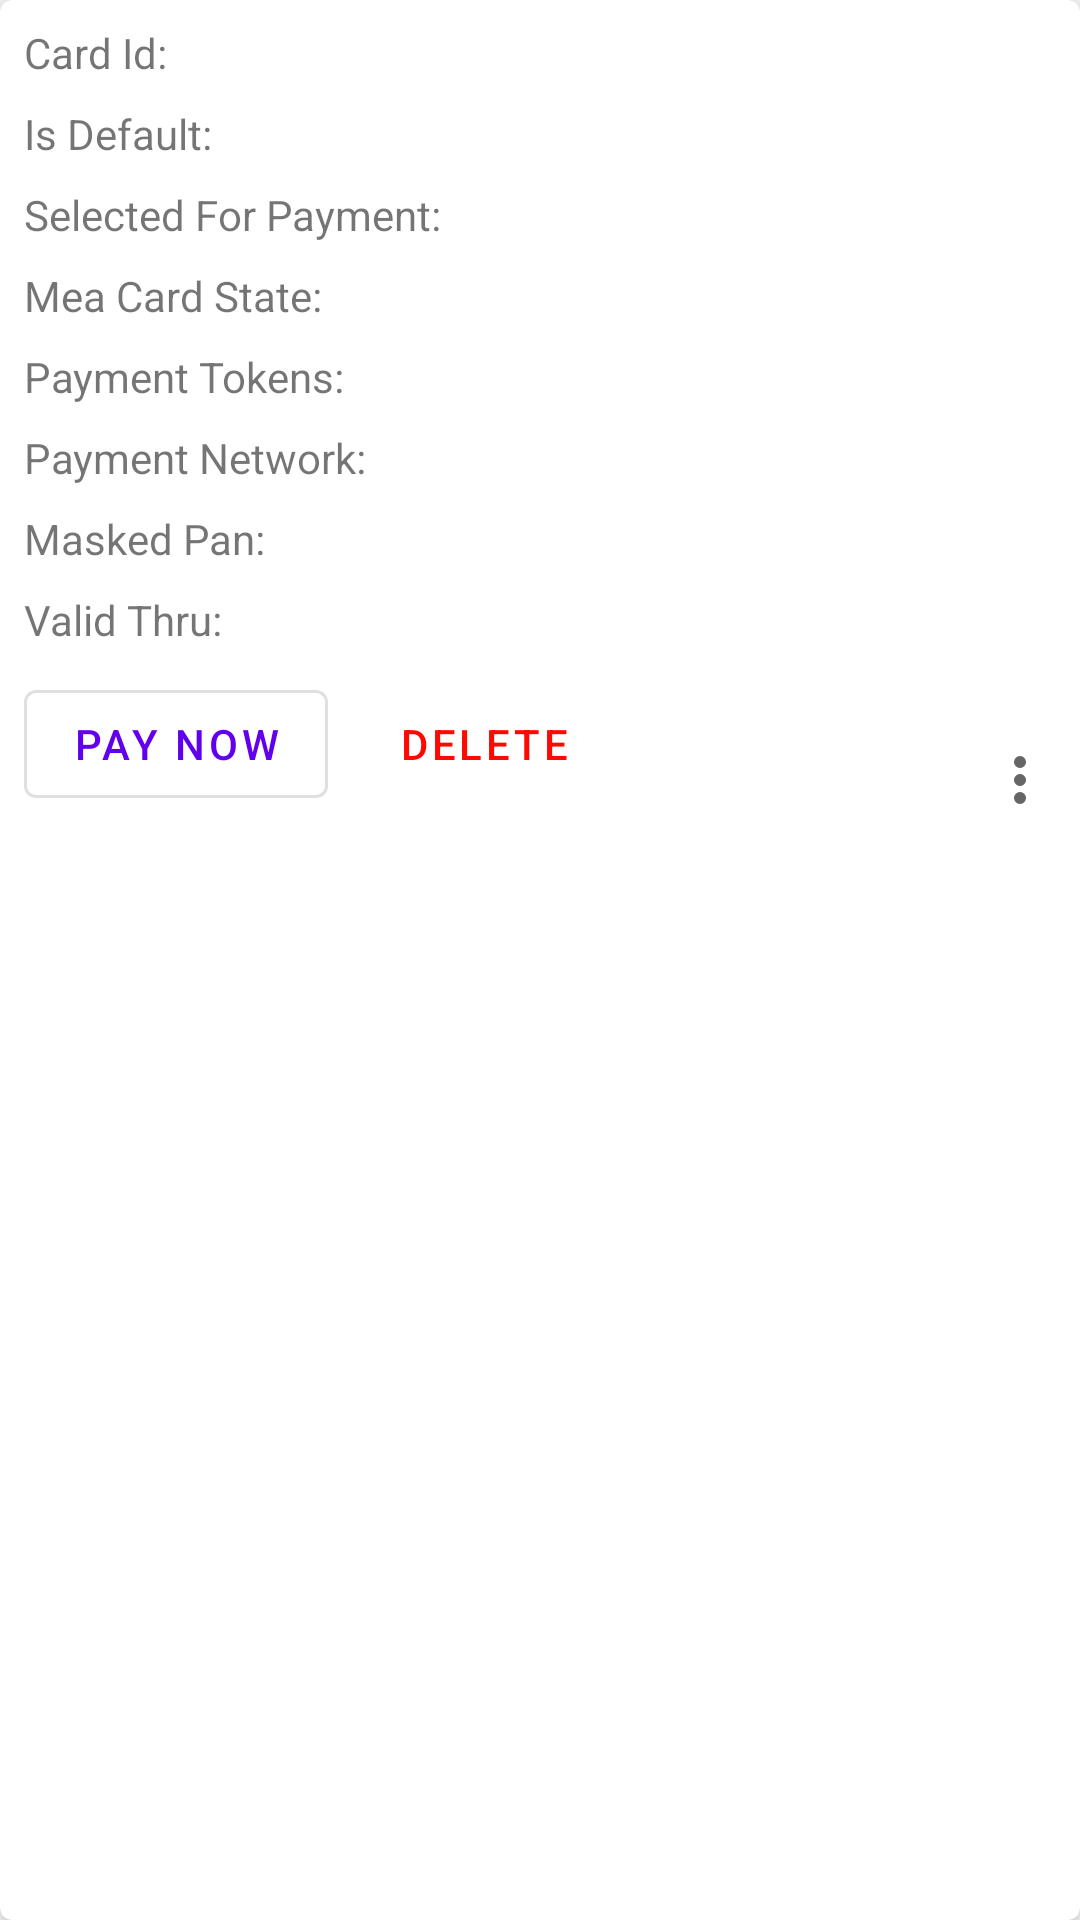

Where icons sit on this 1080w x 1920h app screen, as bbox=(x1, y1, x2, y2):
vert menu: bbox=(1014, 756, 1026, 804)
